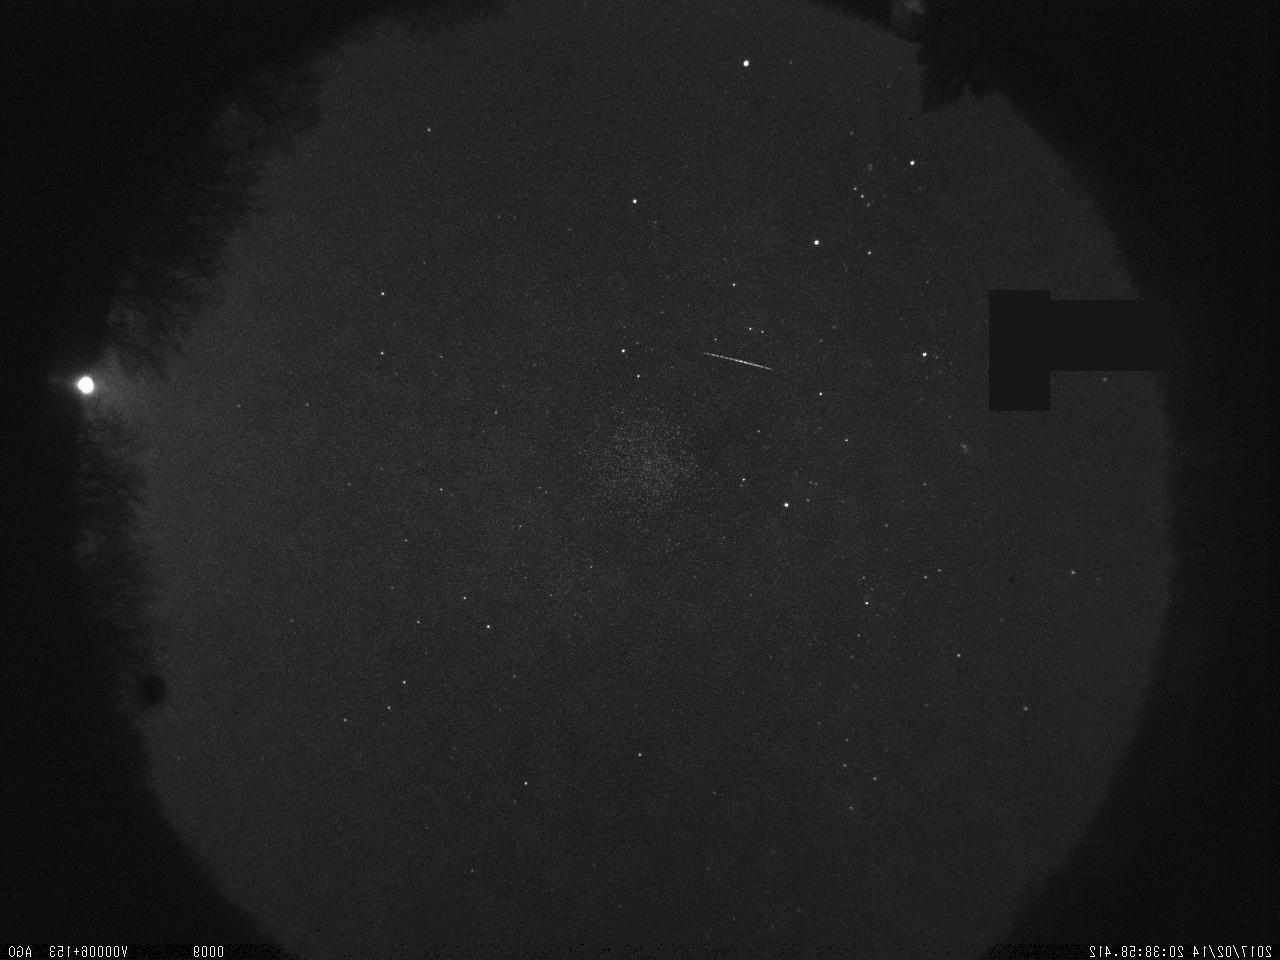meteor: (676, 343, 794, 378)
